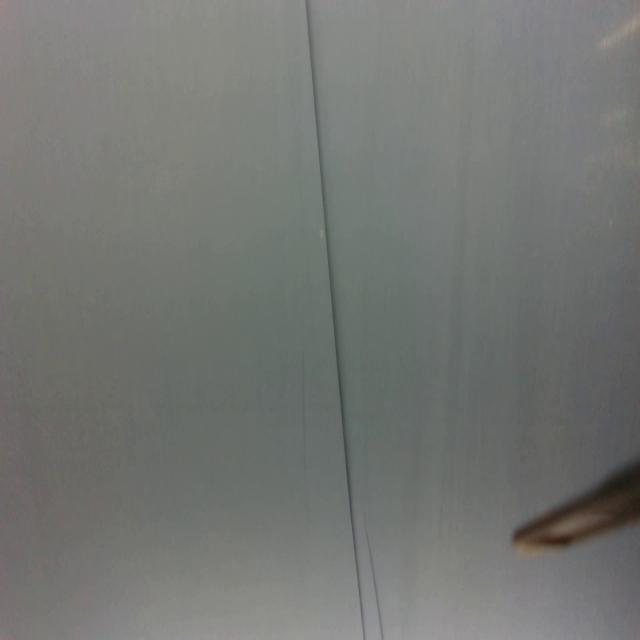crease: (304, 0, 365, 636), (366, 530, 384, 640)
